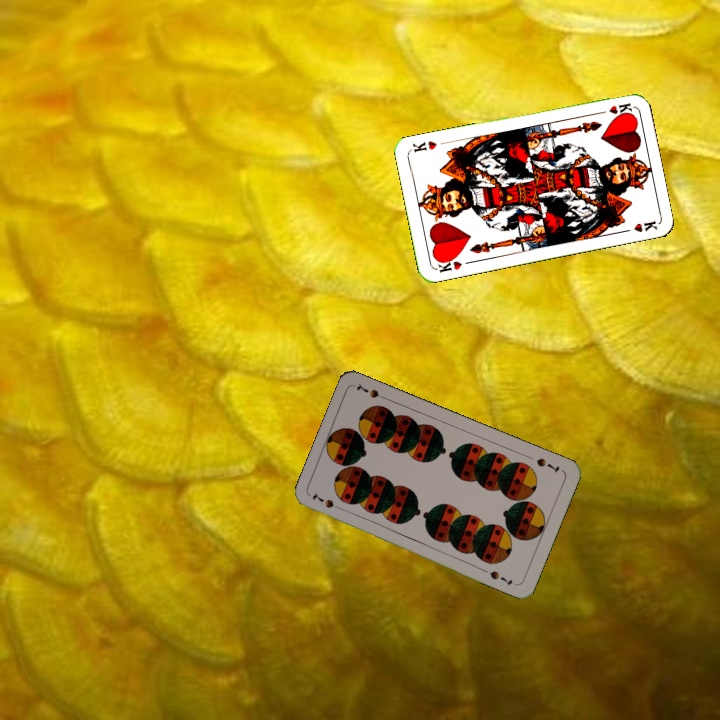HK: (433, 253, 473, 275), (594, 99, 634, 117)
S7: (308, 489, 346, 513), (532, 454, 562, 475)
